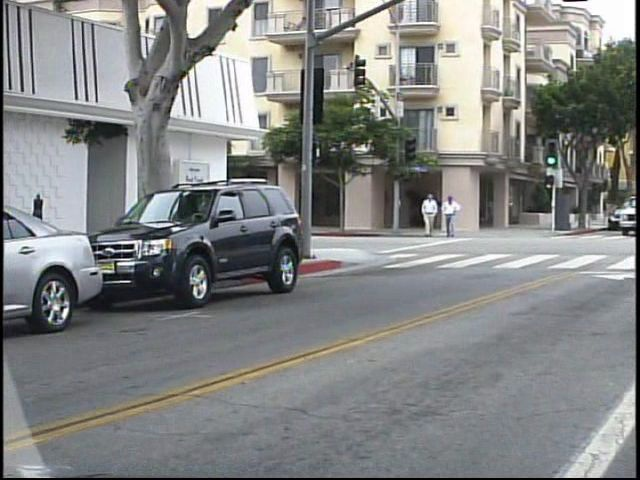person: (417, 190, 440, 243), (440, 191, 463, 243)
